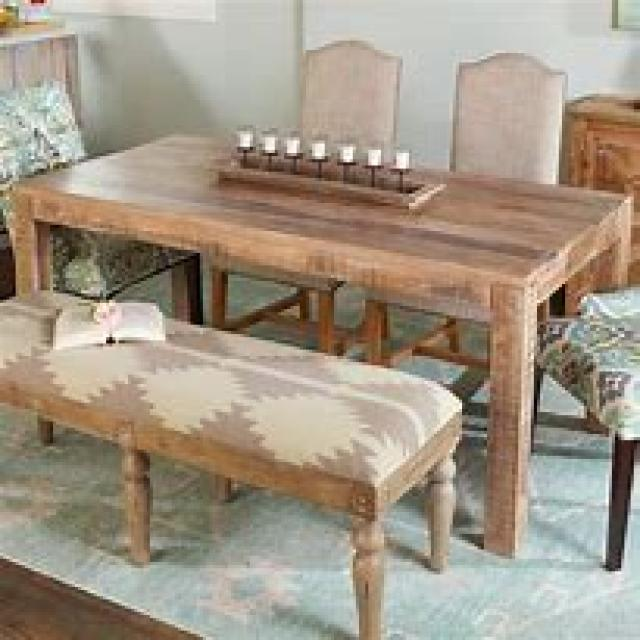table: (6, 128, 634, 556)
